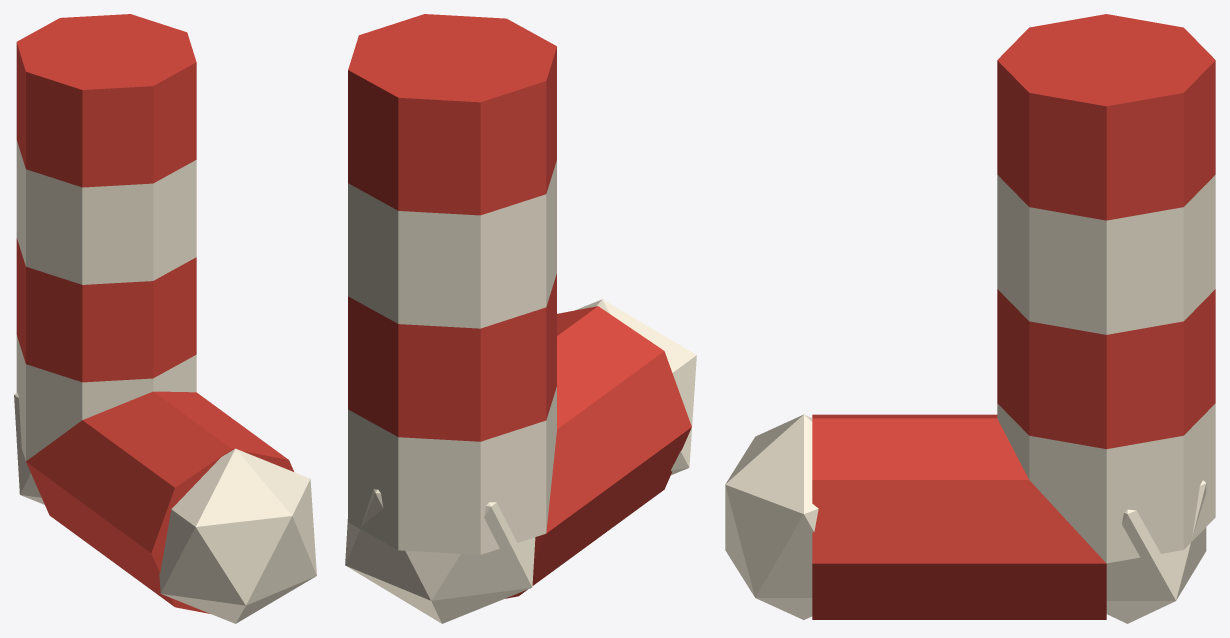
The model's file is fetch_sock.glb.
3 renders of one model, left to right at view 1: azimuth 30°, elevation 25°; view 2: azimuth 150°, elevation 25°; view 3: azimuth 270°, elevation 25°, orthographic. The views are drawn at different scales.
Visible parts, largest first — view 1: fetch_sock; view 2: fetch_sock; view 3: fetch_sock.
Boxes of the visible parts, x1,y1,x2,y2 form: fetch_sock: (14, 14, 316, 623); fetch_sock: (345, 14, 696, 623); fetch_sock: (725, 14, 1215, 623).
Bounding box in the file's own units: 0.052 × 0.148 × 0.1167.
